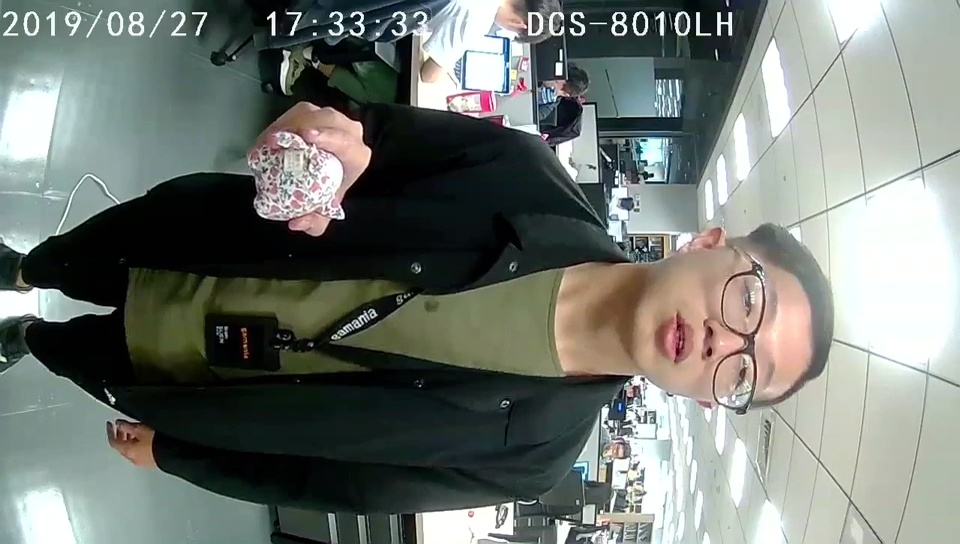pig: (247, 130, 347, 222)
